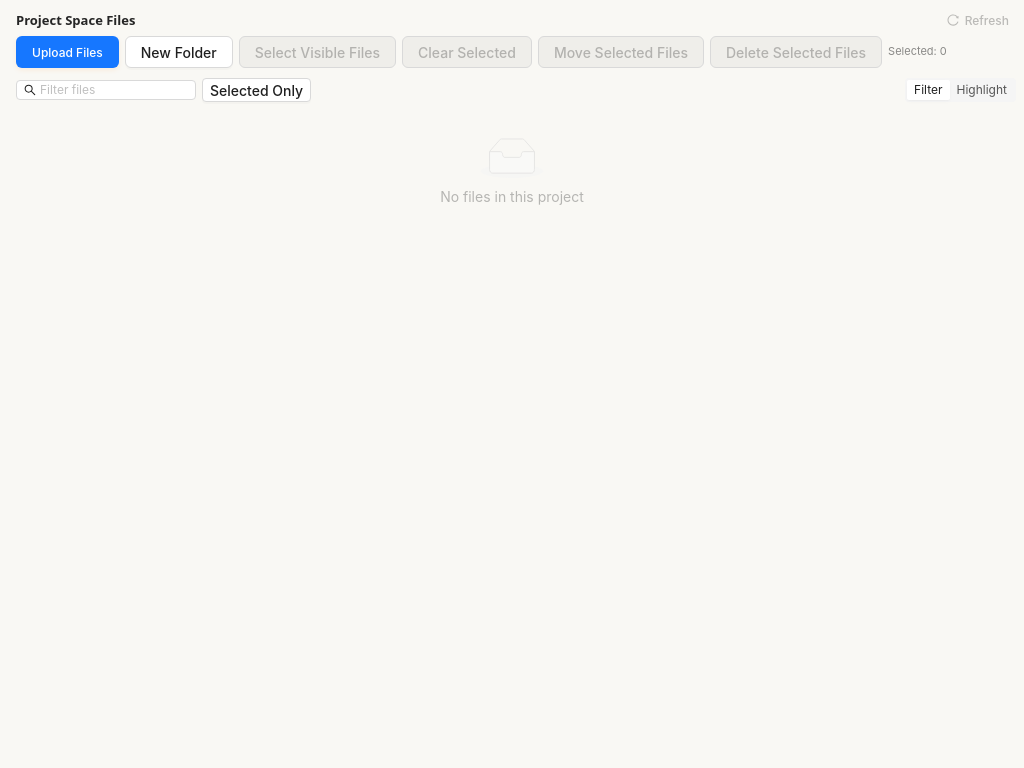
ProjectFileTree interactions › keeps built-in files searchable without an active filter
Step 1. Type "agents" into the field with placeholder "Filter files" → (106, 90), box left=40, top=81, right=172, bottom=99
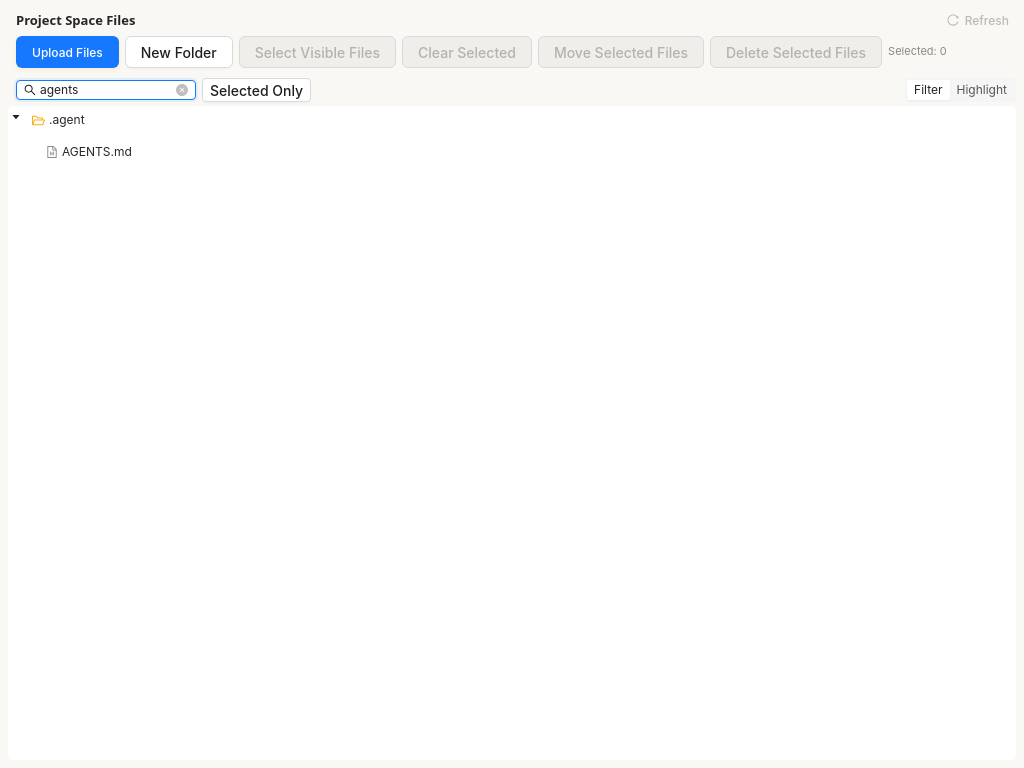
Expected: the text "AGENTS.md" is shown, left=62, top=140, right=132, bottom=164
